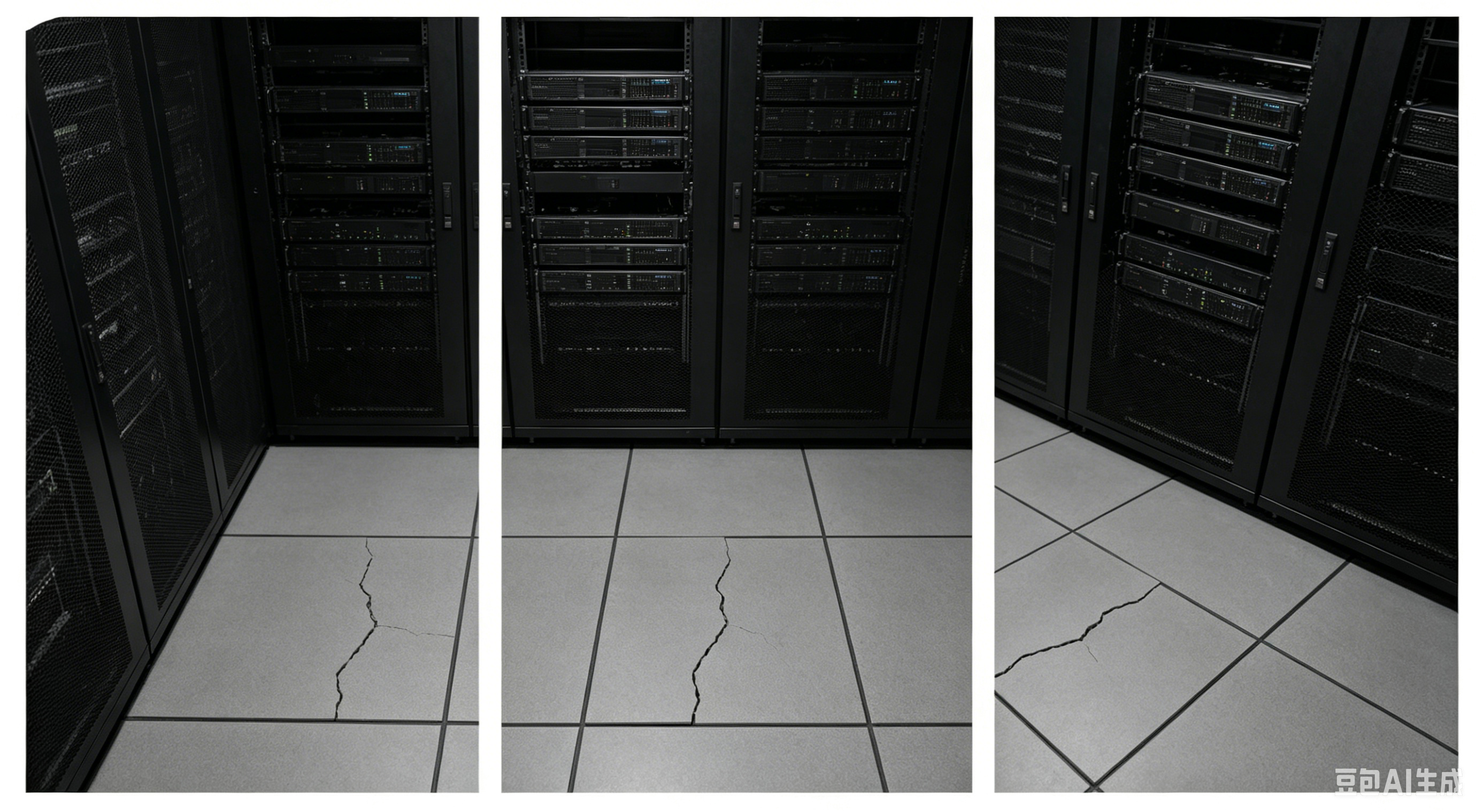floor_defect: (328, 537, 377, 722), (689, 533, 728, 736), (1051, 603, 1120, 665), (995, 622, 1048, 697), (1118, 577, 1166, 616)
